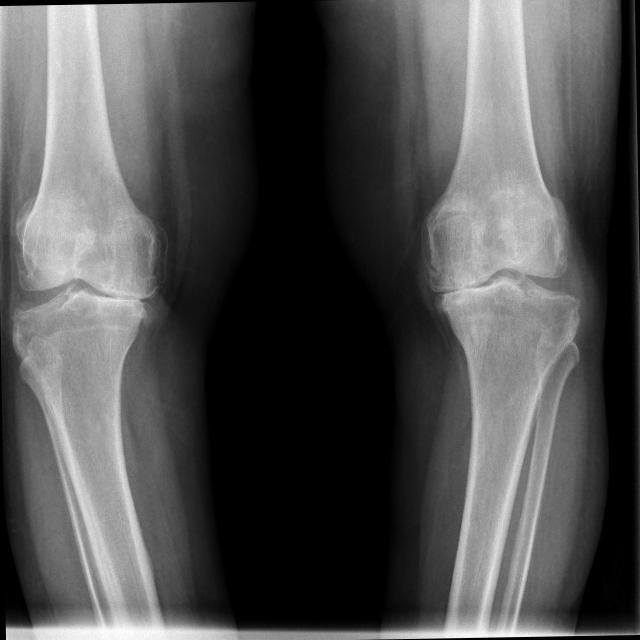Knee: (422, 218, 586, 359), (8, 222, 163, 370)
